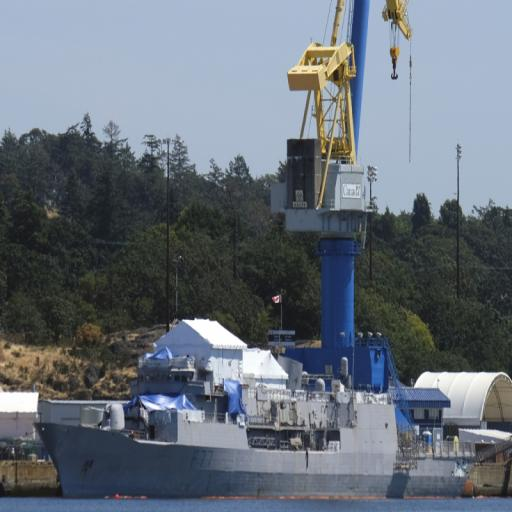Fragata: (34, 347, 482, 509)
